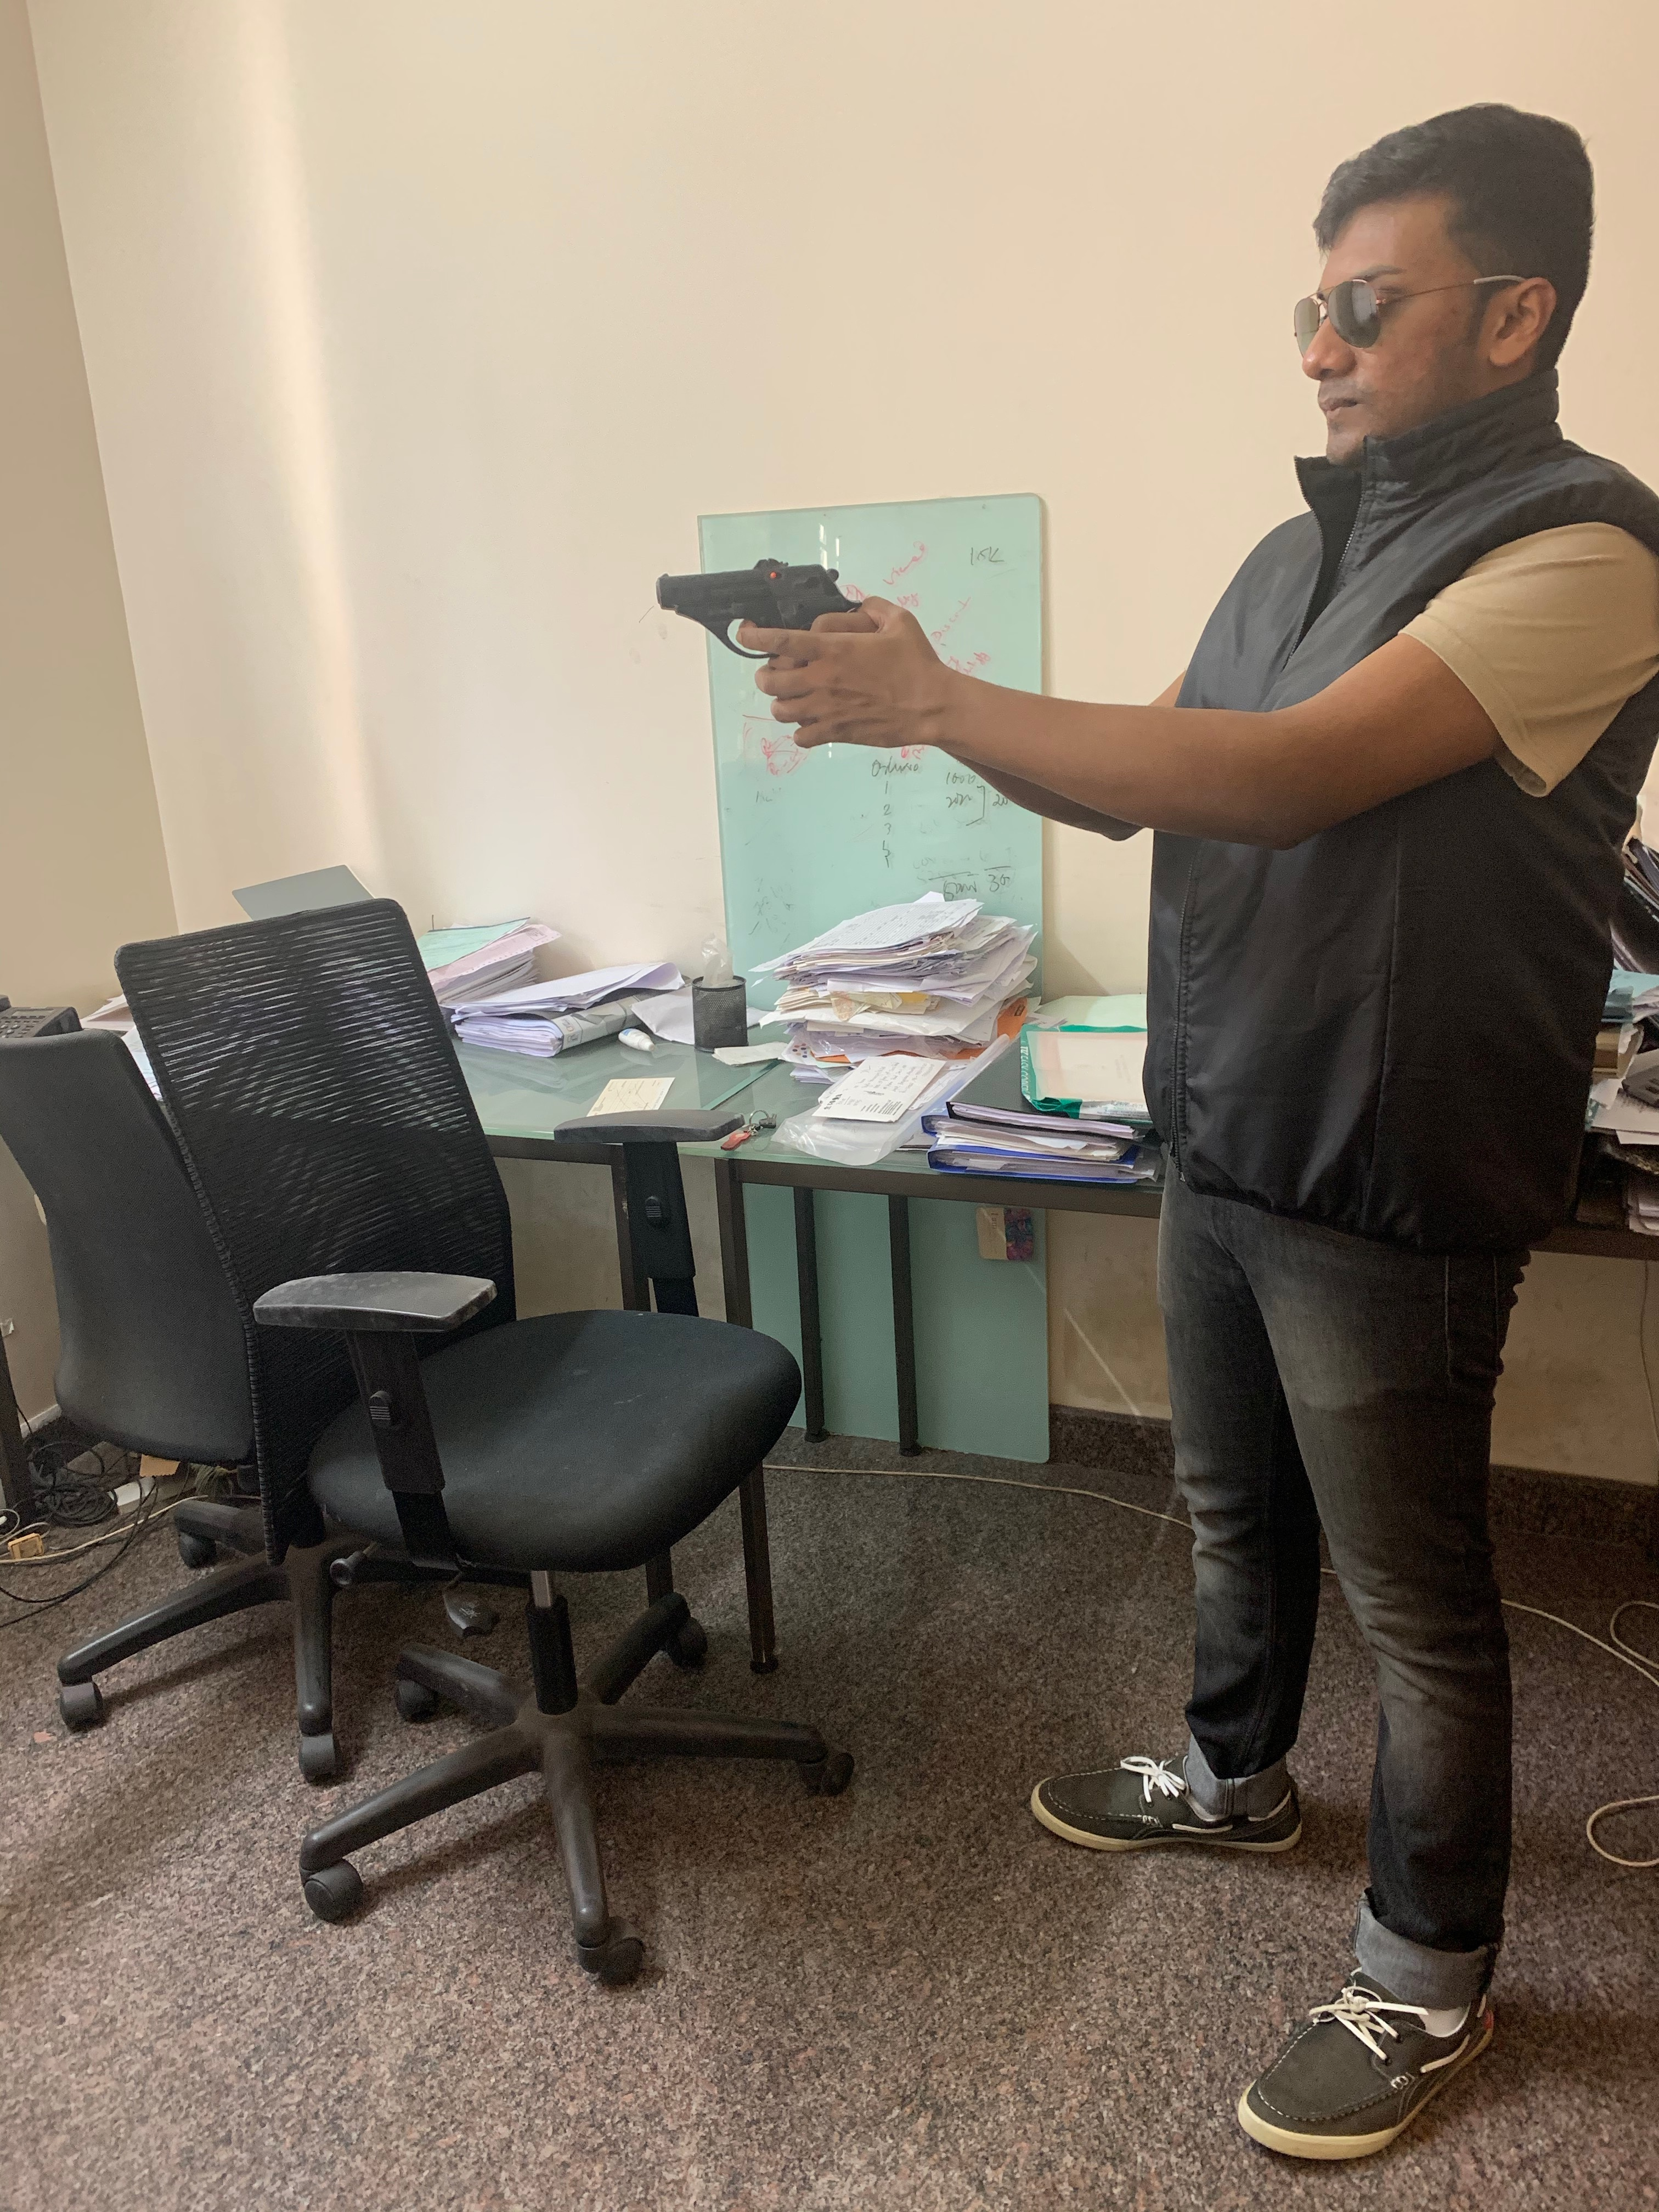gun: (652, 552, 875, 655)
